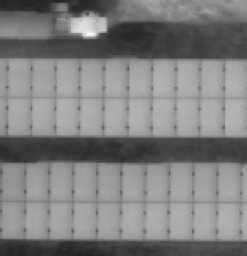solar: (5, 57, 34, 99), (29, 57, 58, 99), (52, 57, 81, 99), (77, 57, 106, 99), (101, 57, 130, 99), (125, 57, 154, 99), (149, 57, 178, 99), (173, 57, 202, 99), (197, 57, 226, 99), (4, 96, 33, 138), (29, 96, 58, 138), (52, 96, 81, 138), (77, 94, 106, 136), (100, 95, 129, 137), (124, 95, 153, 137), (149, 95, 178, 137), (173, 95, 202, 137), (197, 96, 226, 138), (24, 161, 53, 203), (47, 161, 76, 203), (71, 161, 100, 203), (94, 161, 123, 203), (119, 161, 148, 203), (143, 161, 172, 203), (167, 161, 196, 203), (191, 161, 220, 203), (216, 161, 245, 203), (215, 200, 244, 242), (190, 200, 219, 242), (167, 199, 196, 241), (142, 199, 171, 241), (118, 199, 147, 241), (94, 199, 123, 241), (71, 199, 100, 241), (46, 199, 75, 241), (23, 199, 52, 241), (1, 161, 29, 203), (1, 199, 29, 241)
